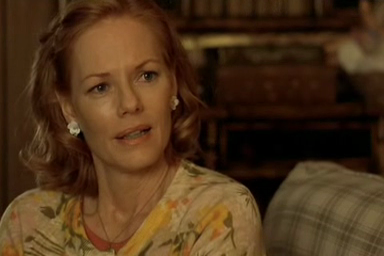cu: (1, 1, 384, 256)
face: (71, 38, 173, 174)
person: (1, 1, 267, 256)
